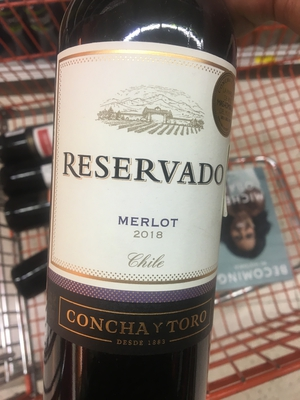reservado merlot: (50, 13, 263, 400)
